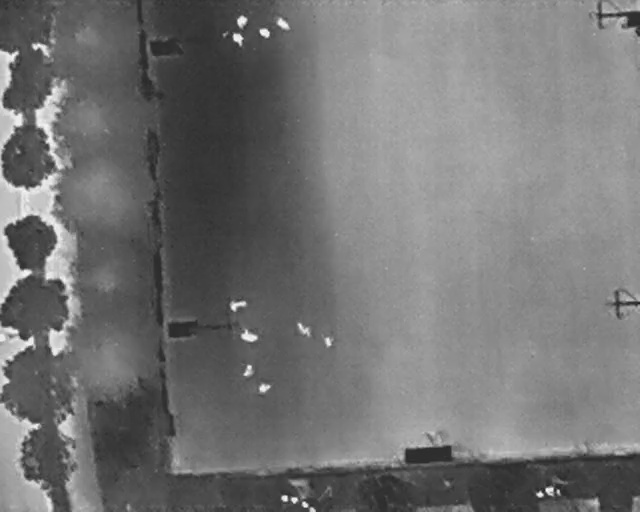Person: (237, 325, 262, 346), (293, 318, 315, 341), (226, 296, 249, 313), (273, 15, 293, 33), (241, 363, 255, 378), (231, 31, 244, 47), (257, 382, 273, 394), (237, 14, 248, 29), (258, 28, 270, 38), (323, 336, 333, 348)
